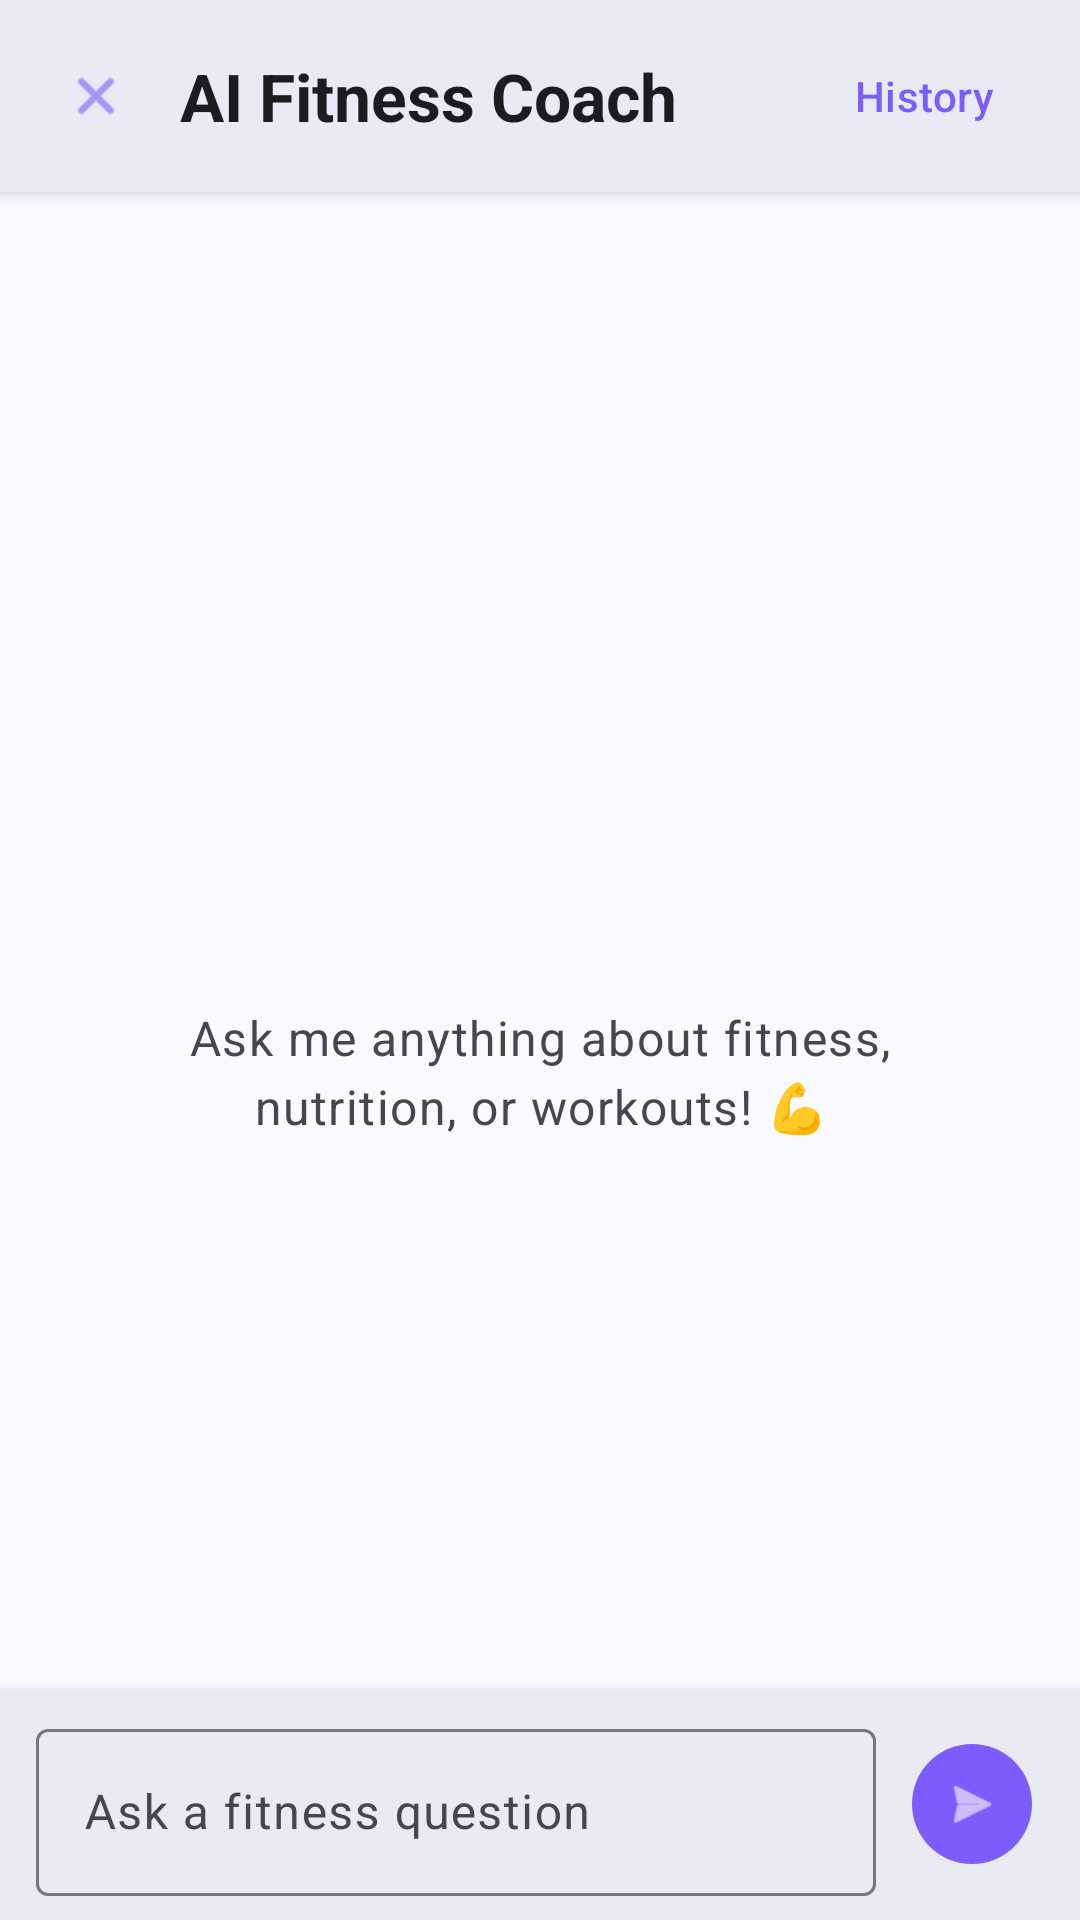

Where to tap for icons on this 1080x1920 app screen, as (x=x, y=y):
Send: (x=972, y=1804)
